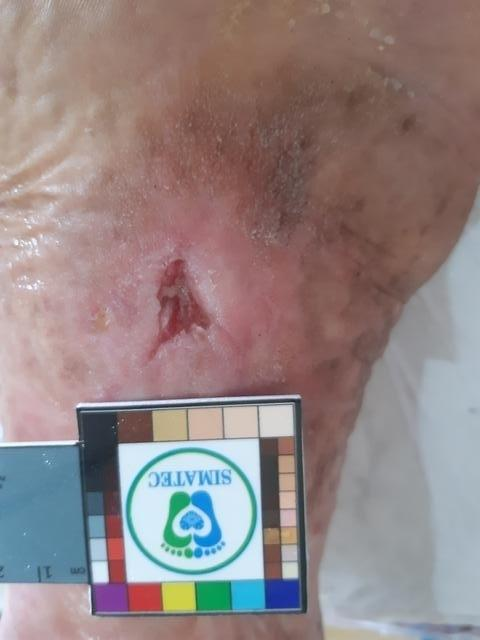wound: (145, 258, 214, 366)
